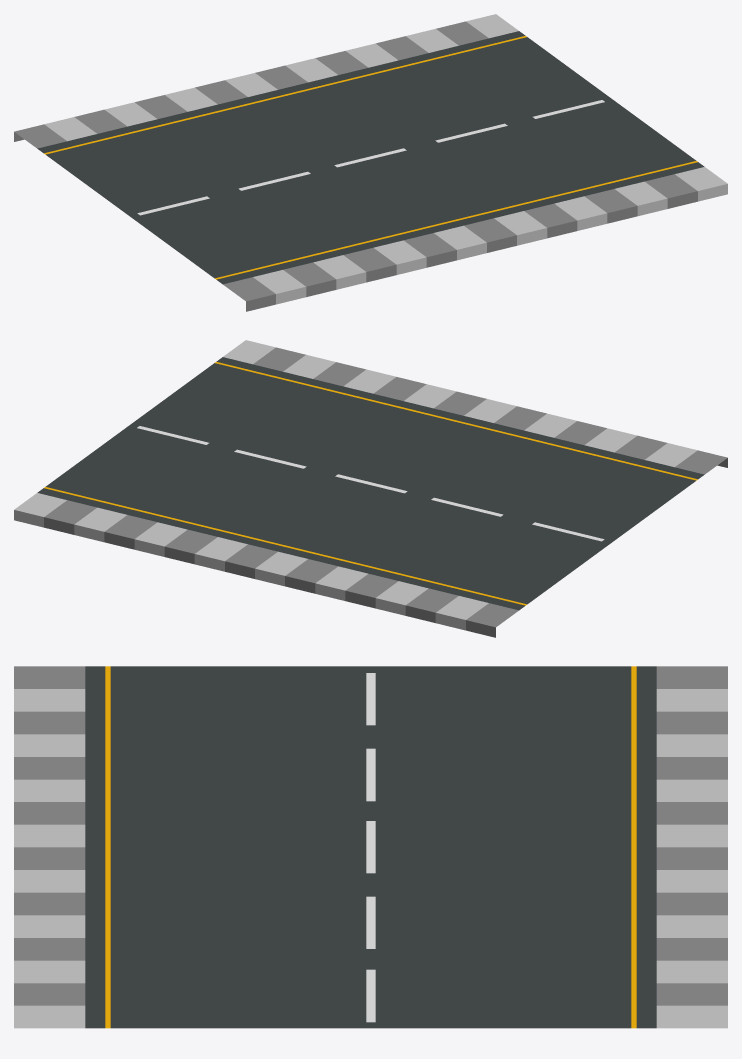
The model's file is SM_Road_01.FBX.
3 views of the same model, one above another, from view 1: azimuth 30°, elevation 25°; view 2: azimuth 150°, elevation 25°; view 3: azimuth 270°, elevation 25° (orthographic). The views are drawn at different scales.
Parts seen in each view (by area): view 1: SM_Road_01; view 2: SM_Road_01; view 3: SM_Road_01.
Boxes of the visible parts, box(x1,y1,x2,y2) form: SM_Road_01: box(14, 14, 727, 311); SM_Road_01: box(14, 340, 727, 637); SM_Road_01: box(14, 666, 727, 1028).
Size of what is drawn, in the model's own units: 1200 by 1000 by 25.
